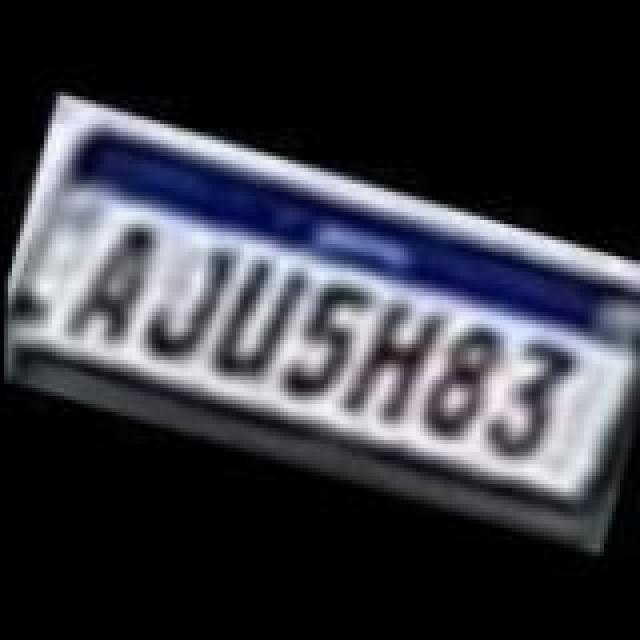3: (458, 318, 570, 466)
5: (274, 262, 374, 406)
8: (406, 298, 510, 450)
A: (56, 206, 172, 354)
H: (332, 276, 440, 436)
J: (128, 228, 240, 376)
U: (196, 240, 308, 392)
